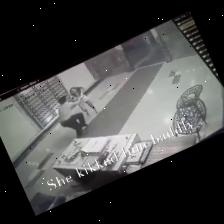person: (59, 96, 87, 137), (70, 86, 97, 115)
